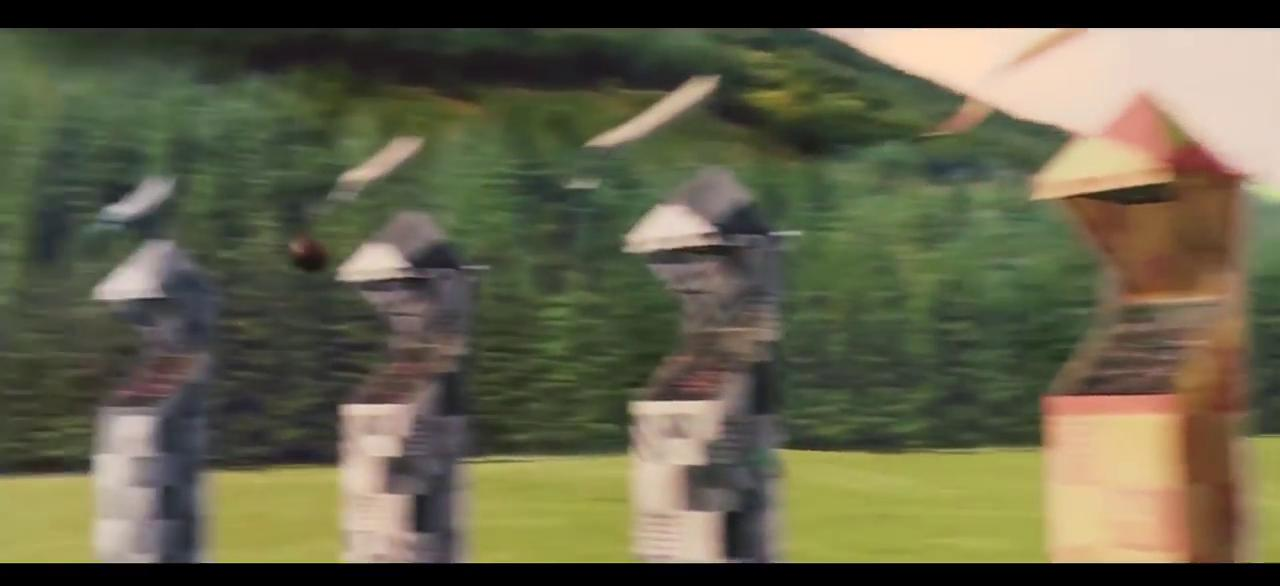quaffle: (285, 235, 327, 272)
